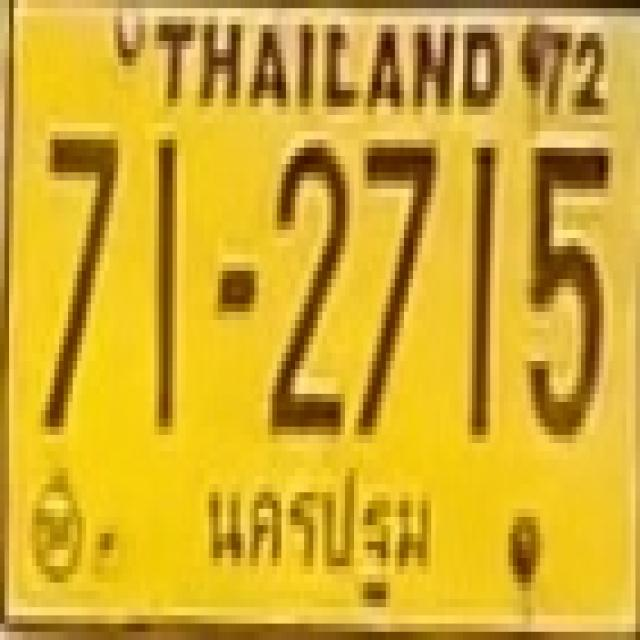1: (150, 131, 172, 427), (468, 135, 490, 431)
2: (271, 139, 348, 435)
5: (522, 144, 608, 440)
7: (360, 141, 437, 437), (44, 133, 116, 429)
NPT: (193, 462, 440, 610)
